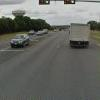Car: (8, 27, 33, 53)
